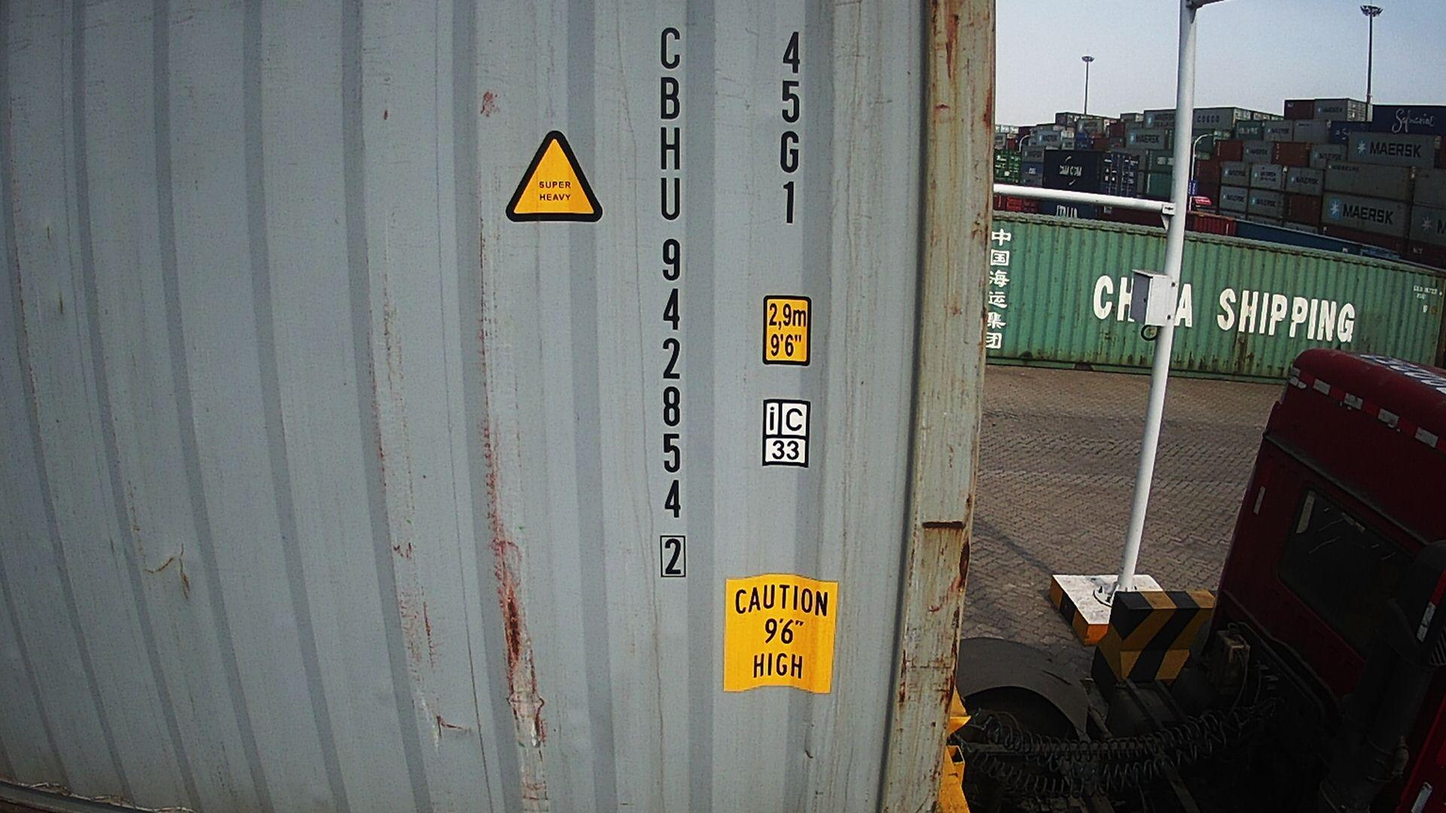container-numbers: (646, 17, 696, 580), (769, 25, 813, 231)
